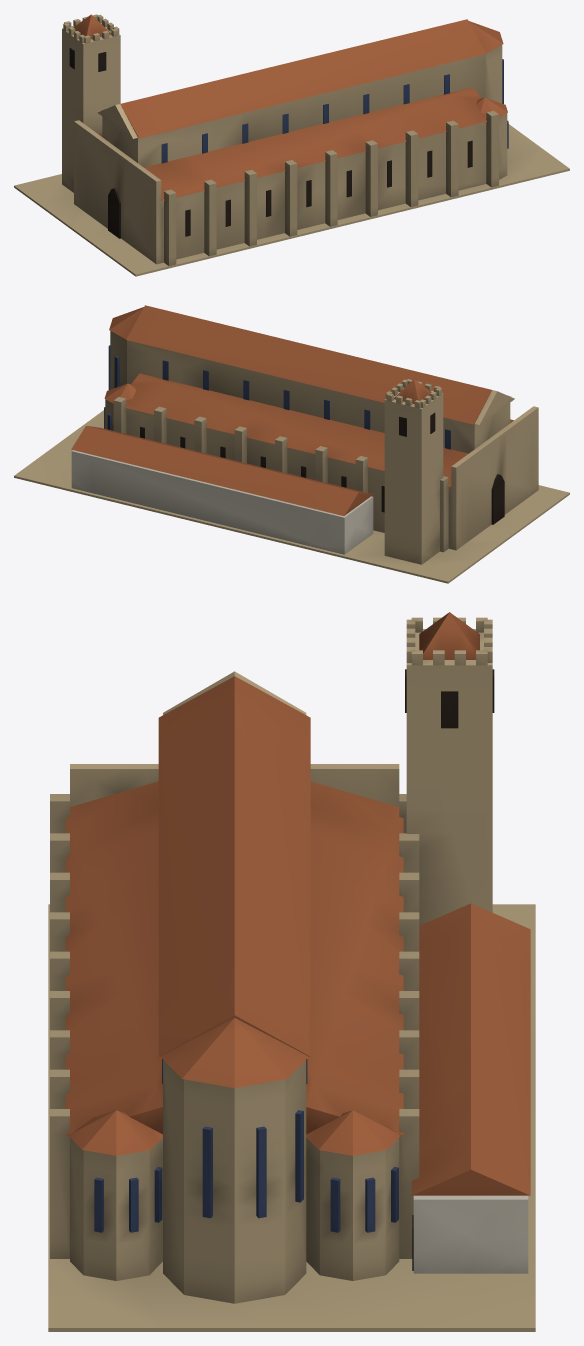
The model's file is san-pablo.glb.
The picture shows the model from 3 angles, top to bottom: view 1: azimuth 30°, elevation 25°; view 2: azimuth 150°, elevation 25°; view 3: azimuth 270°, elevation 25°; orthographic projection. The views are drawn at different scales.
Parts seen in each view (by area): view 1: p1_church, p0_ground, p2_tower; view 2: p1_church, p2_tower, p0_ground; view 3: p1_church, p0_ground, p2_tower.
Part boxes in pixels (bbox=[...]): p1_church: bbox=[74, 19, 508, 265]; p0_ground: bbox=[14, 124, 569, 276]; p2_tower: bbox=[62, 14, 120, 192]; p1_church: bbox=[71, 305, 538, 554]; p2_tower: bbox=[384, 379, 443, 564]; p0_ground: bbox=[14, 410, 569, 583]; p1_church: bbox=[50, 671, 530, 1303]; p0_ground: bbox=[48, 904, 535, 1331]; p2_tower: bbox=[405, 612, 494, 925].
Bounding box in the file's own units: 70 × 27 × 34.
